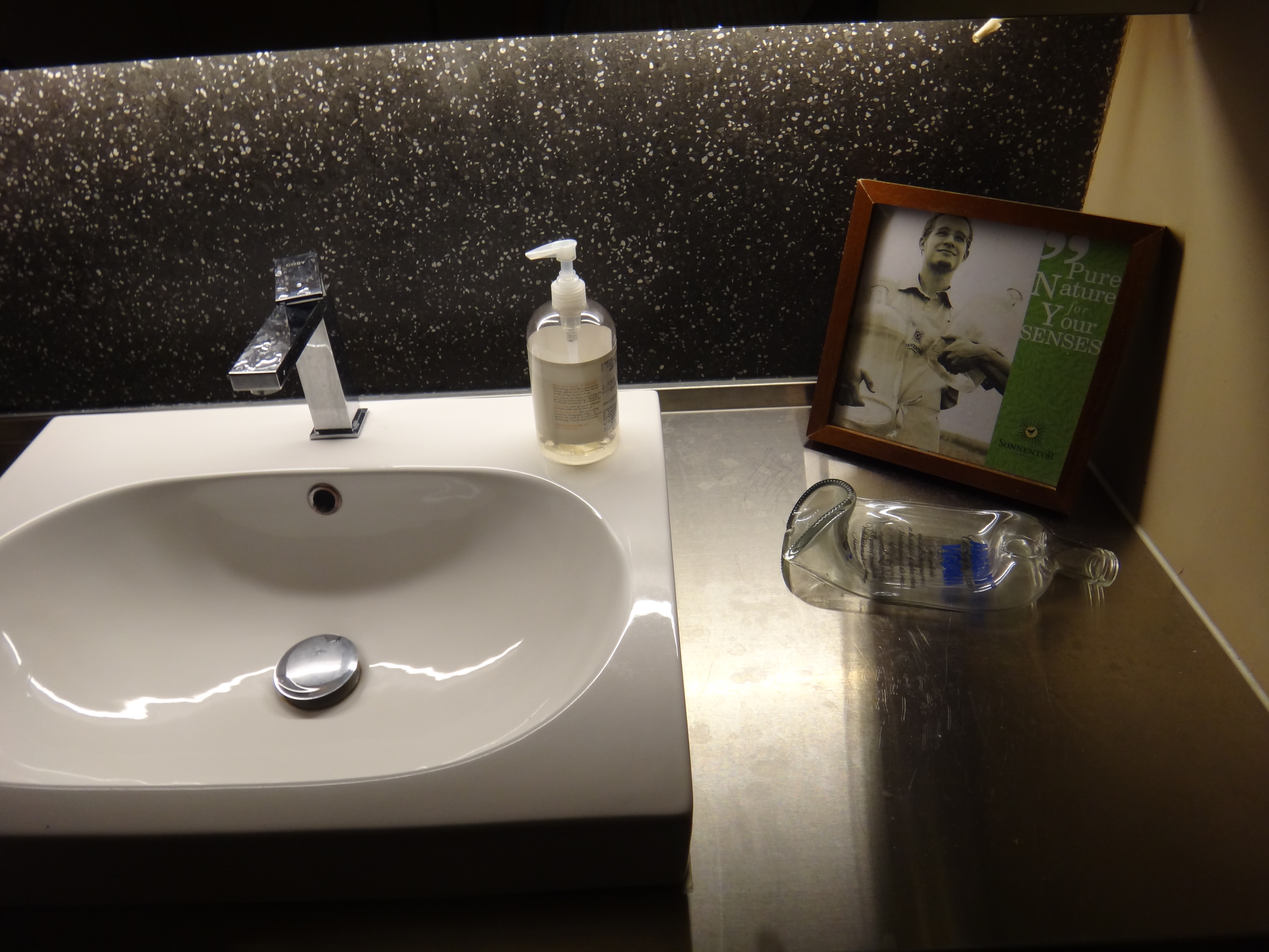tap: (231, 249, 365, 442)
